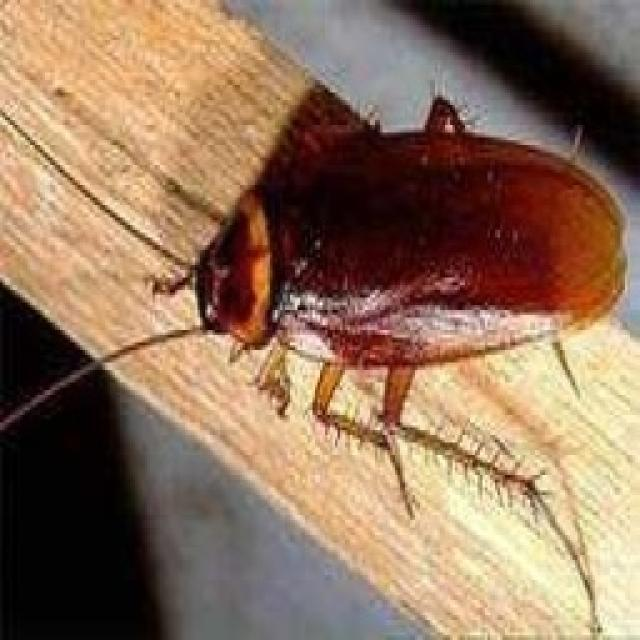cockroach: (120, 99, 629, 453)
